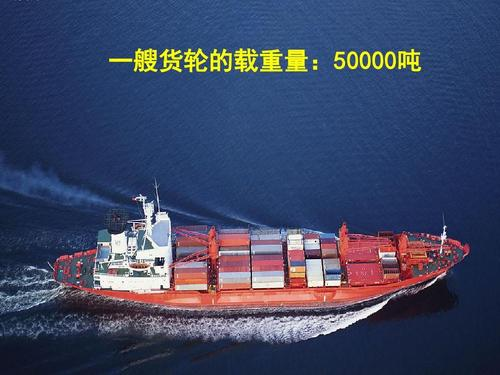Cargoship: (29, 180, 469, 315)
